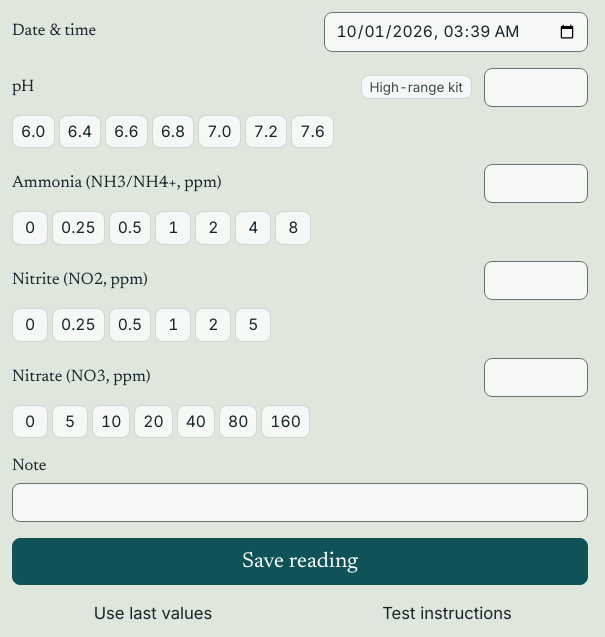
QuickEntry kit chips › reflects a typed value and switches pH to the high-range kit
Expected: the button "Save reading" is enabled, [12,538,588,585]
Type "20" into the field labelled "Nitrate (NO3, ppm)". click: point(536, 377)
box: [484,358,588,397]
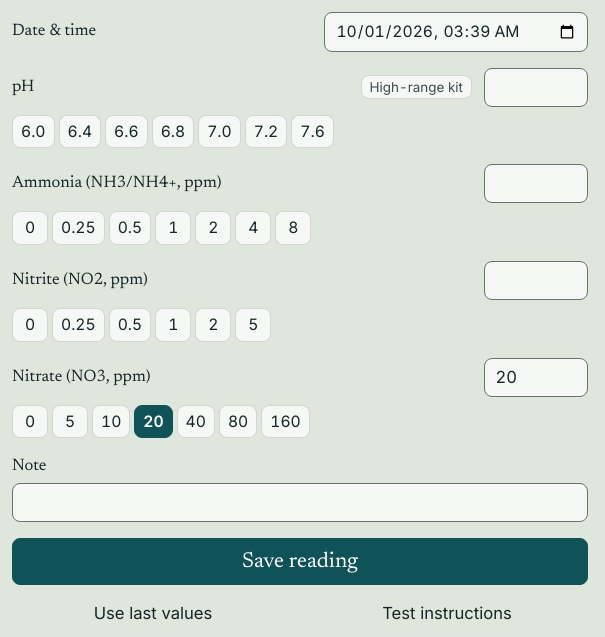
Expected: the button named "NO3 20" is pressed, [134,405,173,438]
Click the button "High-range kit". click: point(416, 87)
box: [361,75,472,99]
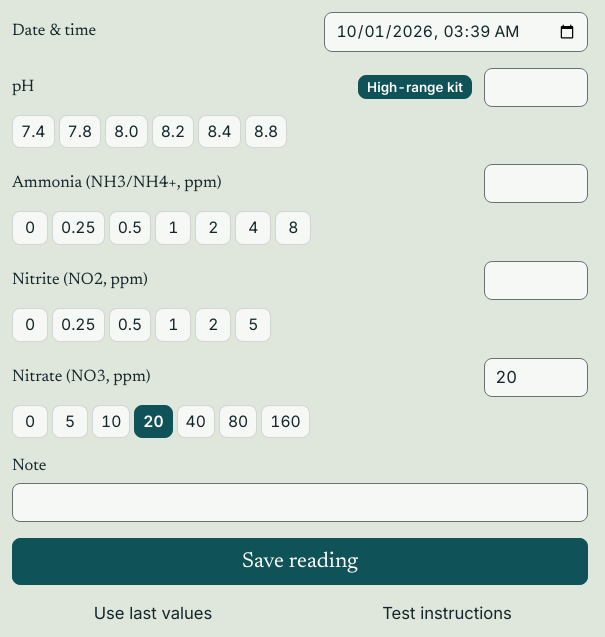
Click the button named "pH 8.8". click: point(266, 132)
box: [245,115,287,148]
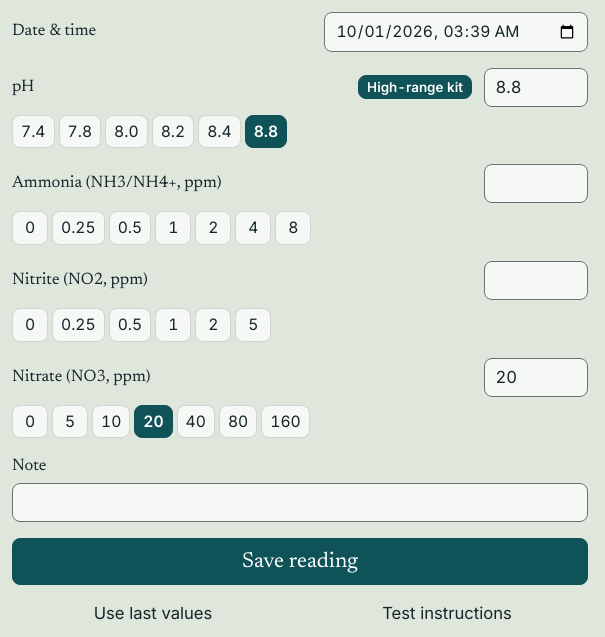
Expected: the field labelled "pH" holds "8.8", [484,68,588,107]
